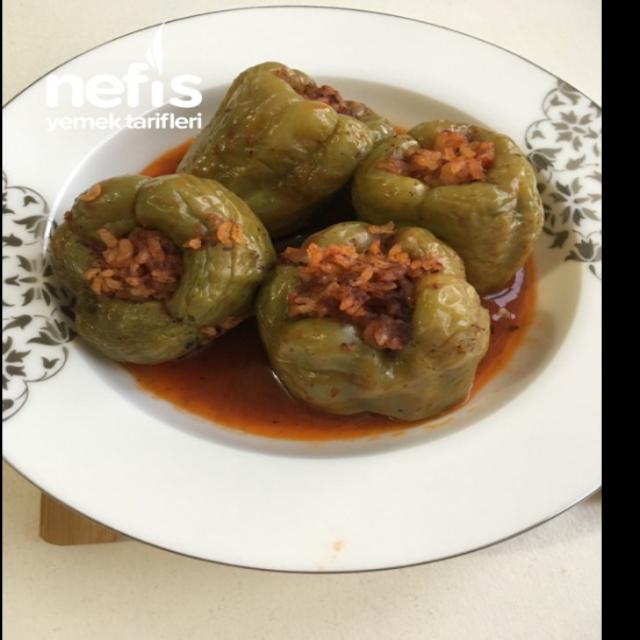ana_yemek: (45, 59, 545, 424)
